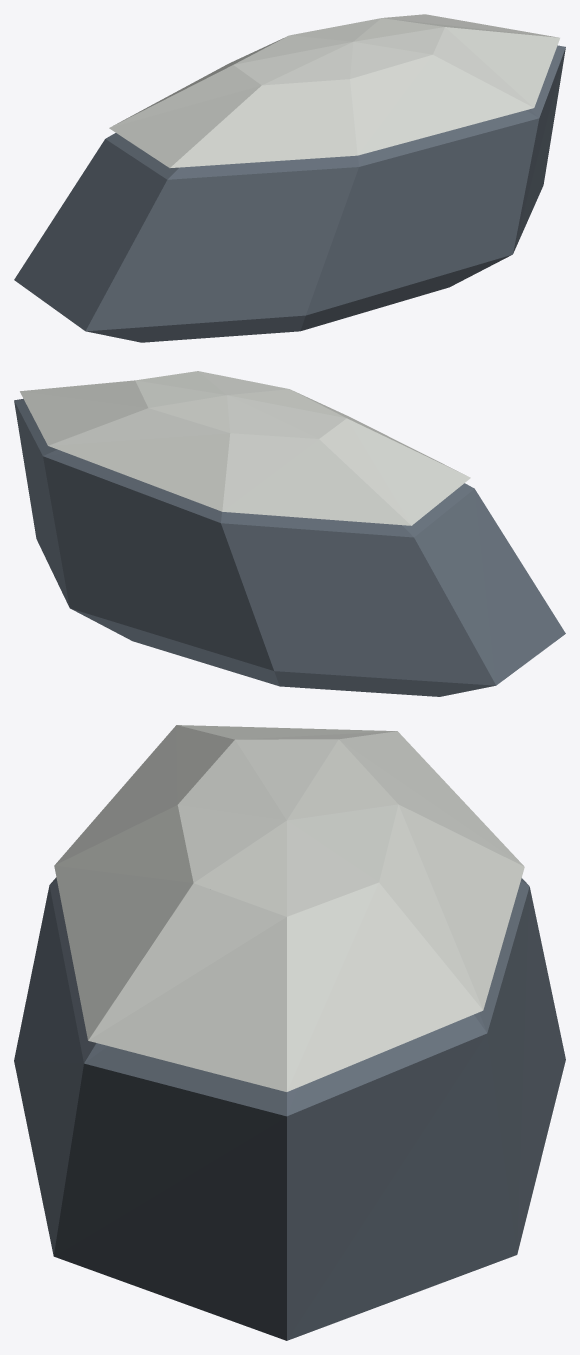
3 views of the same model, one above another, from view 1: azimuth 30°, elevation 25°; view 2: azimuth 150°, elevation 25°; view 3: azimuth 270°, elevation 25° (orthographic). The views are drawn at different scales.
Parts seen in each view (by area): view 1: R03_雪覆长岩; view 2: R03_雪覆长岩; view 3: R03_雪覆长岩.
Boxes of the visible parts, box(x1,y1,x2,y2) form: R03_雪覆长岩: box(14, 14, 565, 342); R03_雪覆长岩: box(14, 371, 565, 696); R03_雪覆长岩: box(14, 725, 565, 1340).
Bounding box in the file's own units: 1.3 × 0.5382 × 0.6512.
